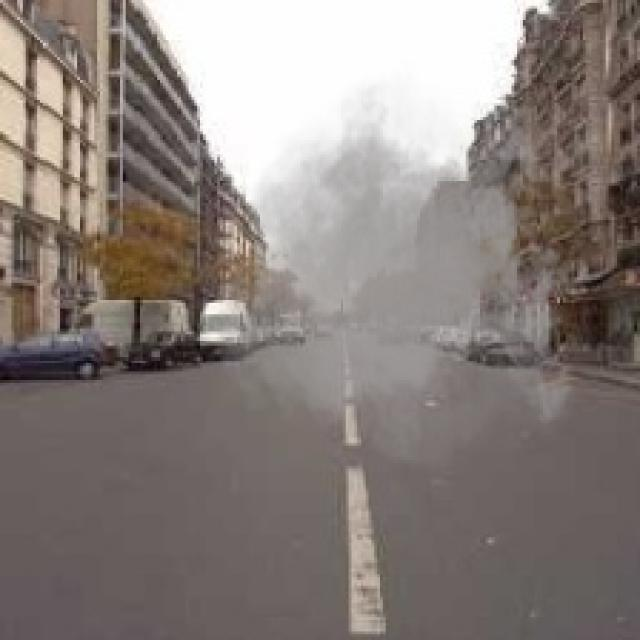smoke: (208, 60, 583, 486)
